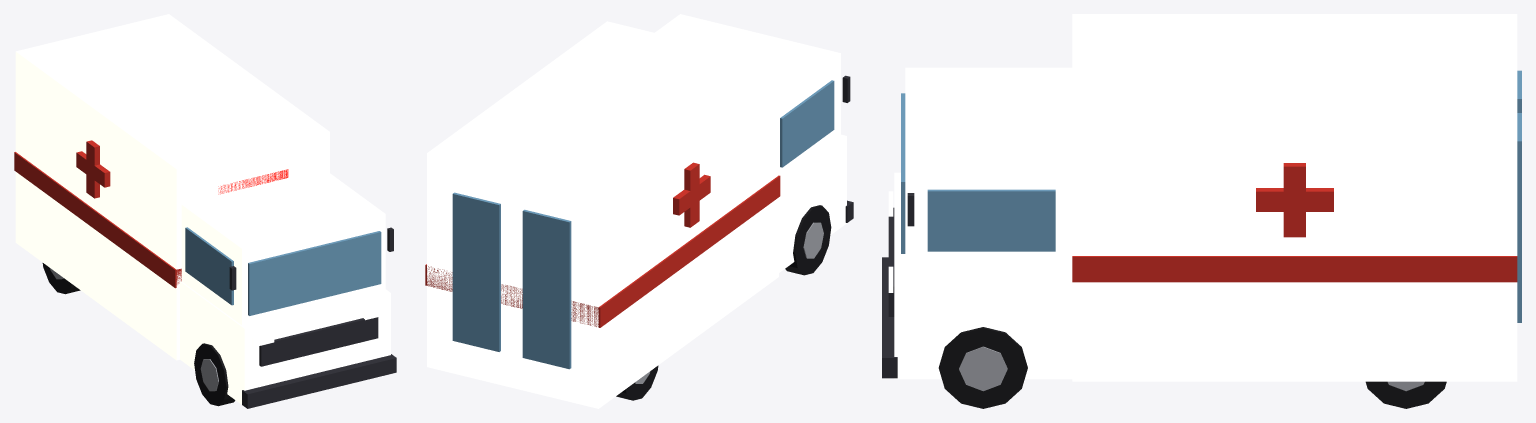
File: ambulance.glb
The picture shows the model from 3 angles, left to right: view 1: azimuth 30°, elevation 25°; view 2: azimuth 150°, elevation 25°; view 3: azimuth 270°, elevation 25°; orthographic projection. The views are drawn at different scales.
Visible parts, largest first — view 1: ambulance; view 2: ambulance; view 3: ambulance.
Boxes of the visible parts, x1=… form: ambulance: x1=14, y1=14, x2=396, y2=408; ambulance: x1=425, y1=14, x2=853, y2=408; ambulance: x1=882, y1=14, x2=1521, y2=408.
Bounding box in the file's own units: 2.36 × 2.9 × 5.75.
